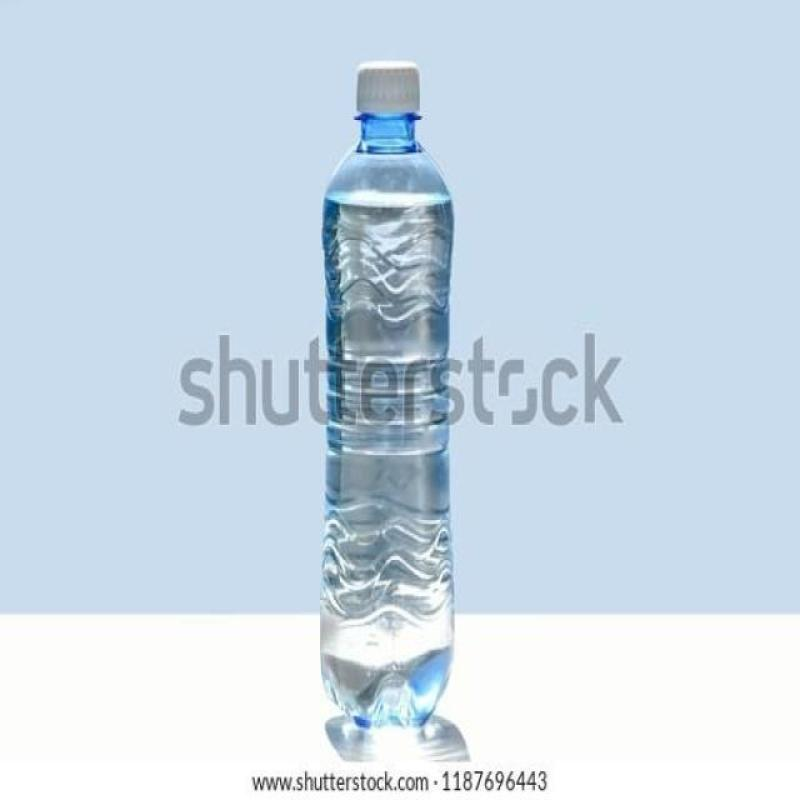botella: (318, 58, 461, 732)
